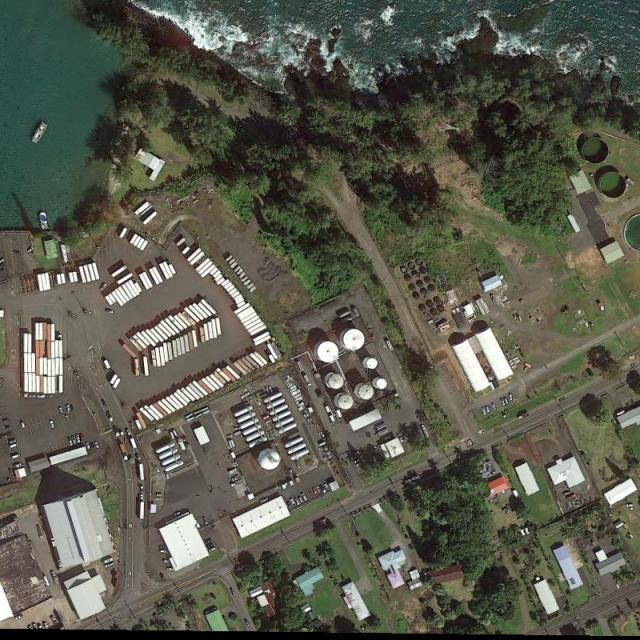vehicle: (421, 425, 430, 439), (518, 412, 530, 421), (112, 426, 121, 438), (232, 479, 244, 487), (106, 411, 114, 422), (290, 498, 298, 509), (100, 282, 109, 291), (320, 484, 328, 494), (230, 588, 238, 598), (301, 493, 309, 502), (85, 442, 93, 451), (232, 475, 242, 482), (12, 453, 22, 460), (195, 520, 202, 530), (106, 562, 116, 569), (154, 466, 162, 474), (50, 570, 58, 578), (101, 398, 109, 406), (490, 402, 497, 411), (229, 468, 238, 475), (324, 483, 331, 492), (14, 462, 23, 469), (79, 433, 86, 442), (126, 428, 133, 437), (261, 498, 270, 505), (206, 542, 215, 549), (204, 539, 214, 545), (27, 247, 35, 254), (398, 435, 405, 443), (326, 451, 333, 459), (294, 498, 301, 506), (67, 438, 74, 446), (59, 407, 66, 415), (286, 502, 293, 510), (51, 617, 58, 625), (164, 472, 171, 480), (13, 250, 22, 256), (316, 486, 322, 495), (312, 487, 318, 496), (76, 435, 82, 444), (72, 436, 78, 445), (70, 405, 76, 414), (66, 405, 72, 414), (245, 619, 251, 628), (14, 615, 23, 621), (174, 511, 182, 517), (10, 443, 18, 449), (94, 442, 100, 450), (9, 439, 17, 445), (119, 427, 125, 435), (203, 517, 209, 525), (209, 547, 217, 553), (160, 573, 166, 581), (501, 398, 506, 407), (504, 398, 510, 405), (298, 496, 304, 503), (90, 443, 96, 450), (129, 422, 135, 429), (1, 263, 6, 271), (486, 406, 491, 414), (354, 459, 362, 464), (50, 421, 55, 429), (160, 545, 168, 550), (357, 462, 363, 468), (166, 566, 175, 570), (21, 422, 26, 429), (106, 310, 114, 314), (626, 504, 634, 508), (482, 407, 486, 415), (46, 394, 54, 398), (38, 395, 46, 399), (30, 394, 38, 398), (1, 258, 6, 264), (164, 558, 170, 563), (66, 415, 70, 422), (510, 394, 513, 401), (161, 550, 167, 553), (1, 380, 2, 384), (1, 384, 2, 387)
